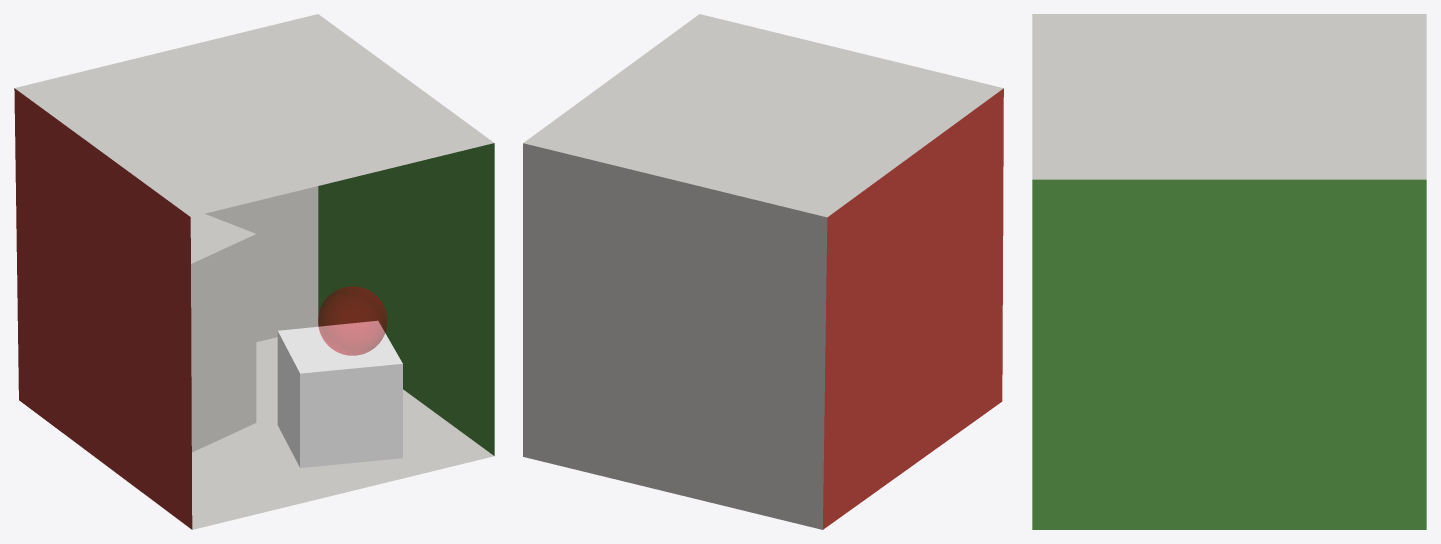
Rendered from cornell_pbr.gltf.
3 views of the same model, side by side, from view 1: azimuth 30°, elevation 25°; view 2: azimuth 150°, elevation 25°; view 3: azimuth 270°, elevation 25° (orthographic). The views are drawn at different scales.
Parts seen in each view (by area): view 1: cornell.001, Sphere; view 2: cornell.001; view 3: cornell.001.
Part boxes in pixels (x1,y1,x2,y2): cornell.001: (14,14,494,529); Sphere: (318,286,386,355); cornell.001: (523,14,1003,529); cornell.001: (1032,14,1426,529).
Size of the model in its own units: 2.02 by 1.99 by 2.03.
